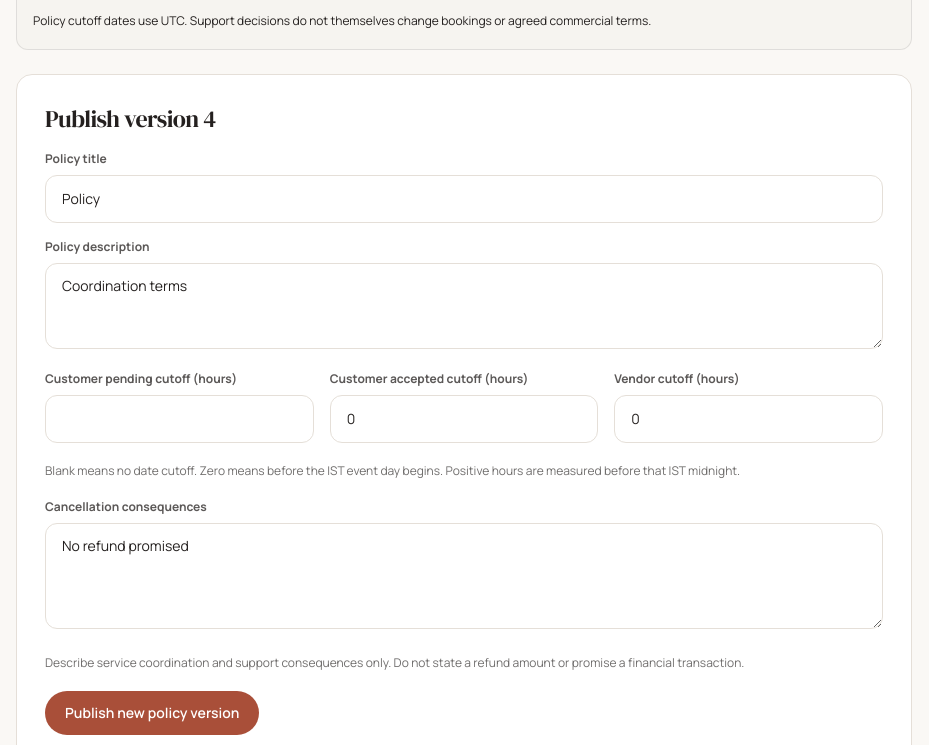
booking support interfaces › publishes a new policy with its inspected version and exact integer cutoffs
This screenshot has width=929, height=745.
(page scrolled)
Expected: the heading "Publish version 4" is shown, [45, 102, 216, 135]
Replace the text in the number field labelled "Customer accepted cutoff (hours)" with "24". click: (464, 419)
box: [330, 395, 598, 443]
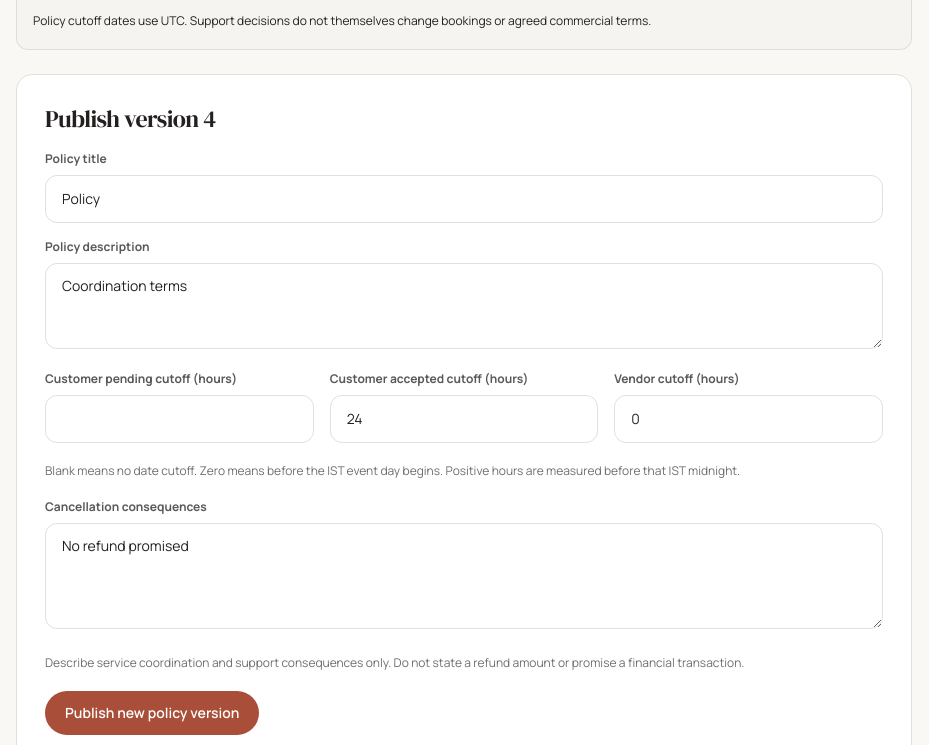
Click the button "Publish new policy version". click: click(152, 713)
box: [45, 691, 259, 735]
(page scrolled)
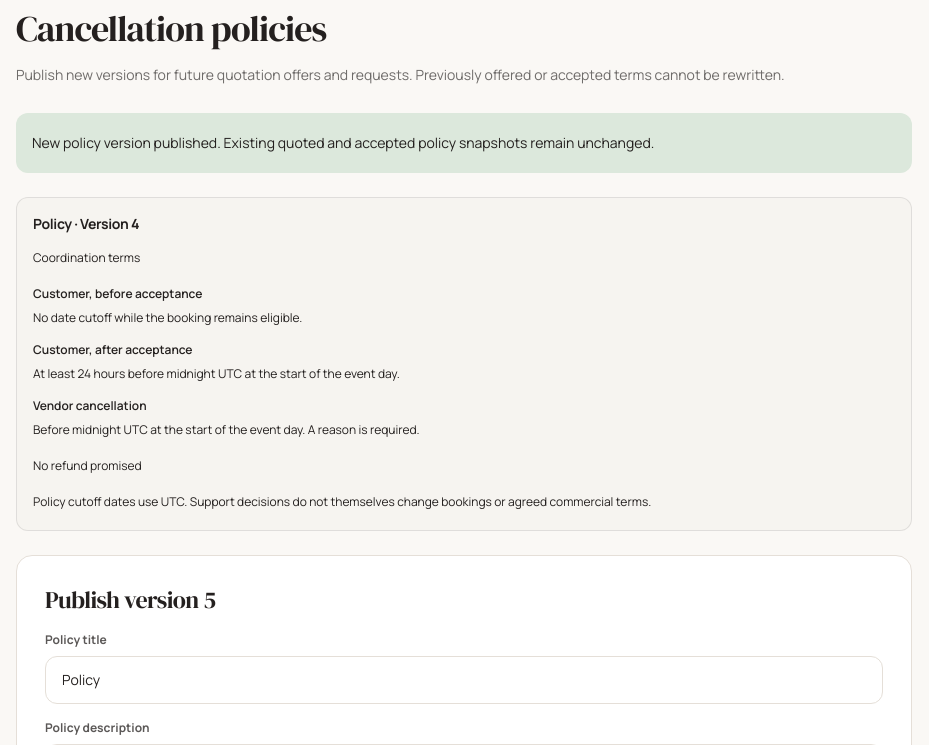
Now the message shows "Existing quoted and accepted policy snapshots remain unchanged", box [32, 133, 654, 152]
